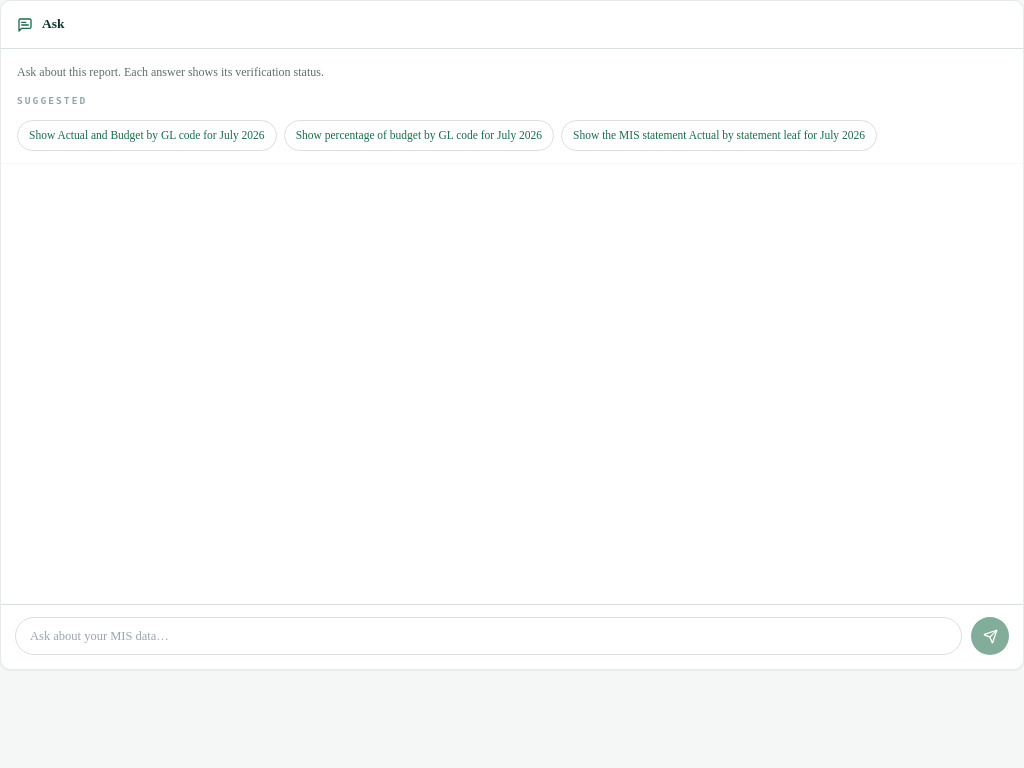
Test: GL row labels render beside raw keys without changing answer rows totals or order
Step 1. Type "Show Actual by GL code" into the field labelled "Ask about your MIS data" → (488, 636), box [15,617,962,655]
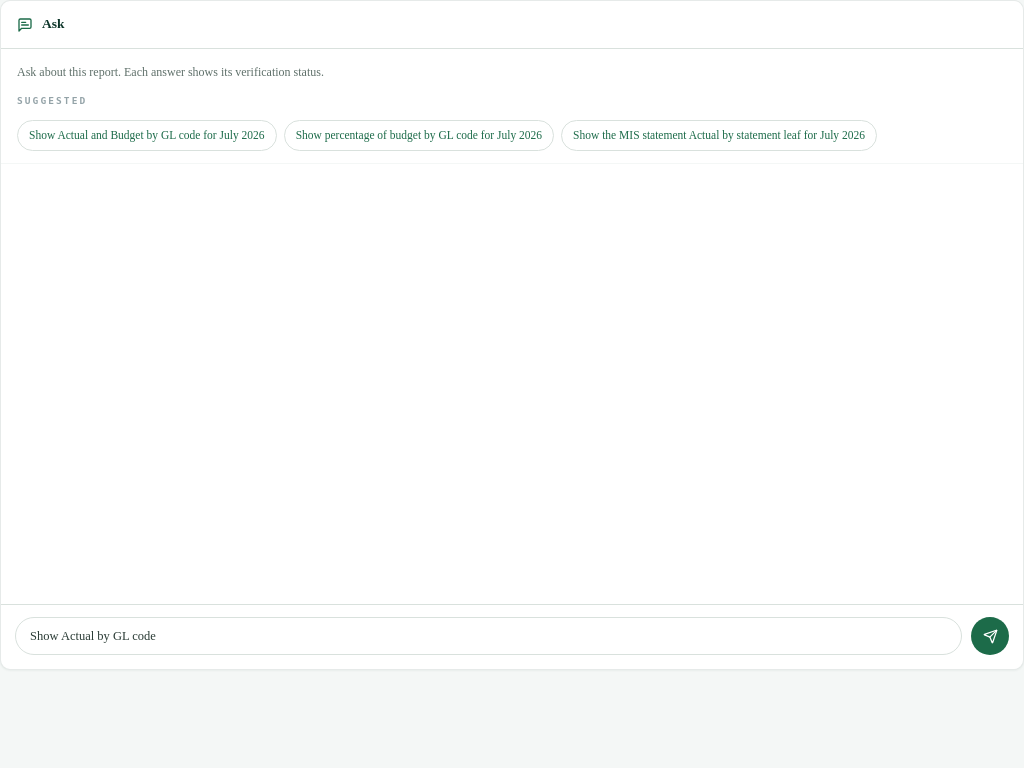
Step 2. Click the button named "Send question" → (990, 636), box [971,617,1009,655]
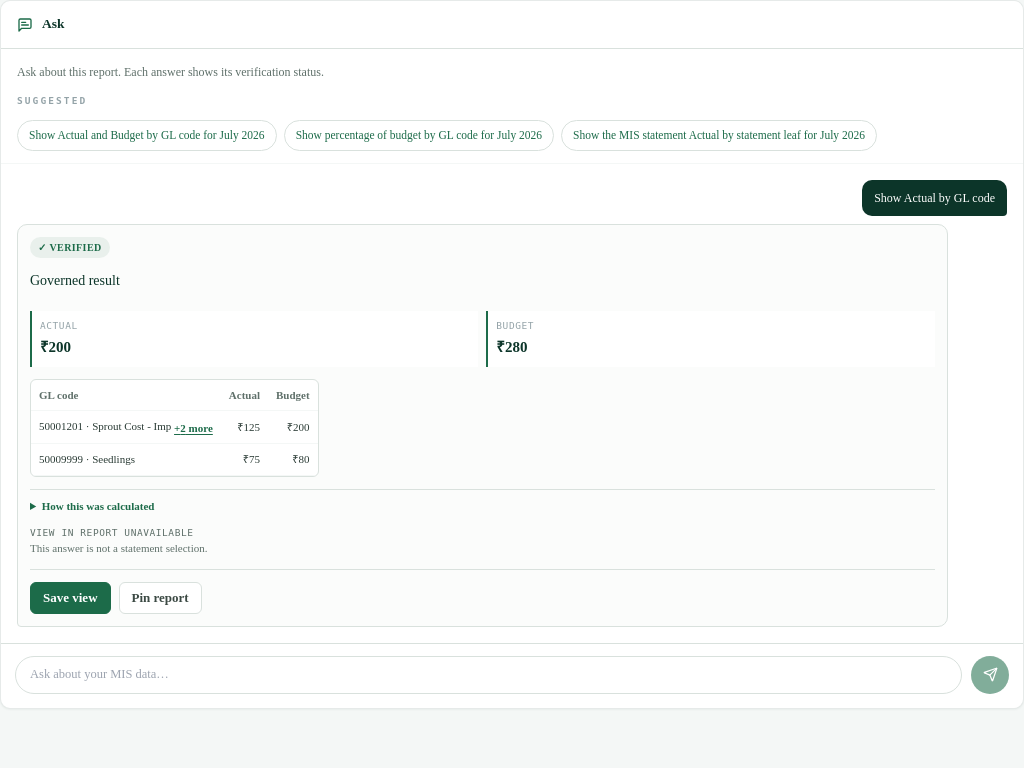
Expected: the row "50001201 · Sprout Cost - Imp +2 more ₹125 ₹200" is shown, [31,411,318,444]
Expected: the row "50009999 · Seedlings ₹75 ₹80" is shown, [31,444,318,475]
